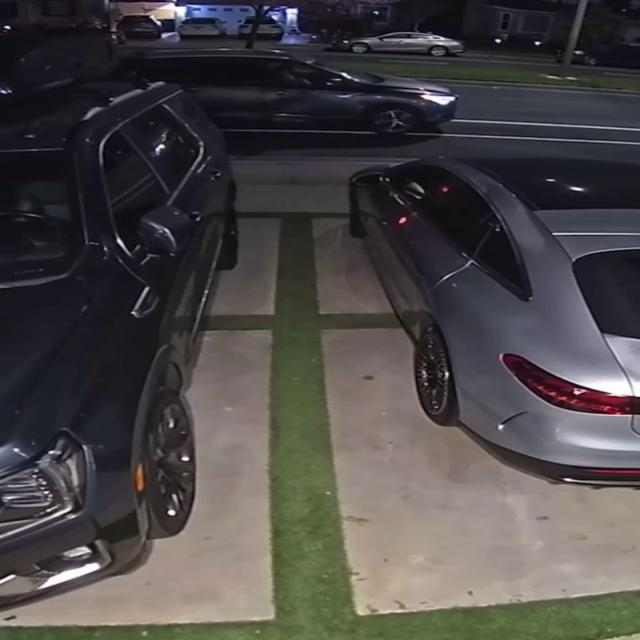Theft - Alert: (347, 137, 639, 485), (130, 52, 456, 144), (117, 32, 489, 77)
